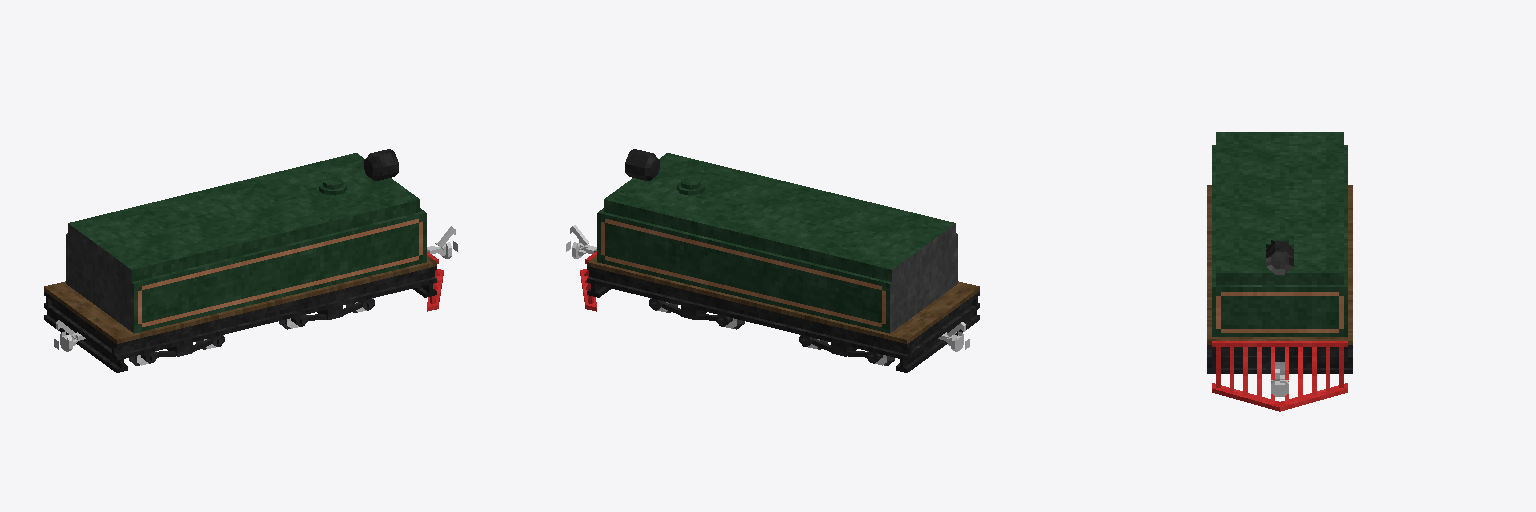
3 renders of one model, left to right at view 1: azimuth 30°, elevation 25°; view 2: azimuth 150°, elevation 25°; view 3: azimuth 270°, elevation 25°, orthographic.
Parts seen in each view (by area): view 1: FRAME.body_Cube.022, FRAME_Cube.007, WIDGET_1_TOGGLE_CG_headrear_LABEL_Rear^Headlight_Cube.020, COUPLER_ENGAGED_REAR_2_TOGGLE_LABEL_Uncouple_Cube.006, BOGEY_FRONT_Cube.035, BOGEY_REAR_Cube.003; view 2: FRAME.body_Cube.022, FRAME_Cube.007, WIDGET_1_TOGGLE_CG_headrear_LABEL_Rear^Headlight_Cube.020, COUPLER_ENGAGED_REAR_2_TOGGLE_LABEL_Uncouple_Cube.006, BOGEY_FRONT_Cube.035, BOGEY_REAR_Cube.003; view 3: FRAME.body_Cube.022, FRAME_Cube.007, COUPLER_ENGAGED_REAR_2_TOGGLE_LABEL_Uncouple_Cube.006, WIDGET_1_TOGGLE_CG_headrear_LABEL_Rear^Headlight_Cube.020.
Part boxes in pixels (x1,y1,x2,y2): FRAME.body_Cube.022: (66, 153, 426, 333); FRAME_Cube.007: (44, 255, 436, 372); WIDGET_1_TOGGLE_CG_headrear_LABEL_Rear^Headlight_Cube.020: (364, 149, 398, 180); COUPLER_ENGAGED_REAR_2_TOGGLE_LABEL_Uncouple_Cube.006: (427, 241, 457, 311); BOGEY_FRONT_Cube.035: (141, 335, 224, 363); BOGEY_REAR_Cube.003: (291, 299, 374, 326); FRAME.body_Cube.022: (597, 153, 957, 333); FRAME_Cube.007: (587, 255, 979, 372); WIDGET_1_TOGGLE_CG_headrear_LABEL_Rear^Headlight_Cube.020: (625, 149, 659, 180); COUPLER_ENGAGED_REAR_2_TOGGLE_LABEL_Uncouple_Cube.006: (566, 240, 596, 311); BOGEY_FRONT_Cube.035: (799, 335, 882, 363); BOGEY_REAR_Cube.003: (649, 299, 732, 326); FRAME.body_Cube.022: (1212, 132, 1347, 336); FRAME_Cube.007: (1207, 185, 1352, 373); COUPLER_ENGAGED_REAR_2_TOGGLE_LABEL_Uncouple_Cube.006: (1212, 341, 1347, 411); WIDGET_1_TOGGLE_CG_headrear_LABEL_Rear^Headlight_Cube.020: (1266, 241, 1293, 274).
Bounding box in the file's own units: 6.31 × 2.19 × 2.
3 materials, 2 textured.